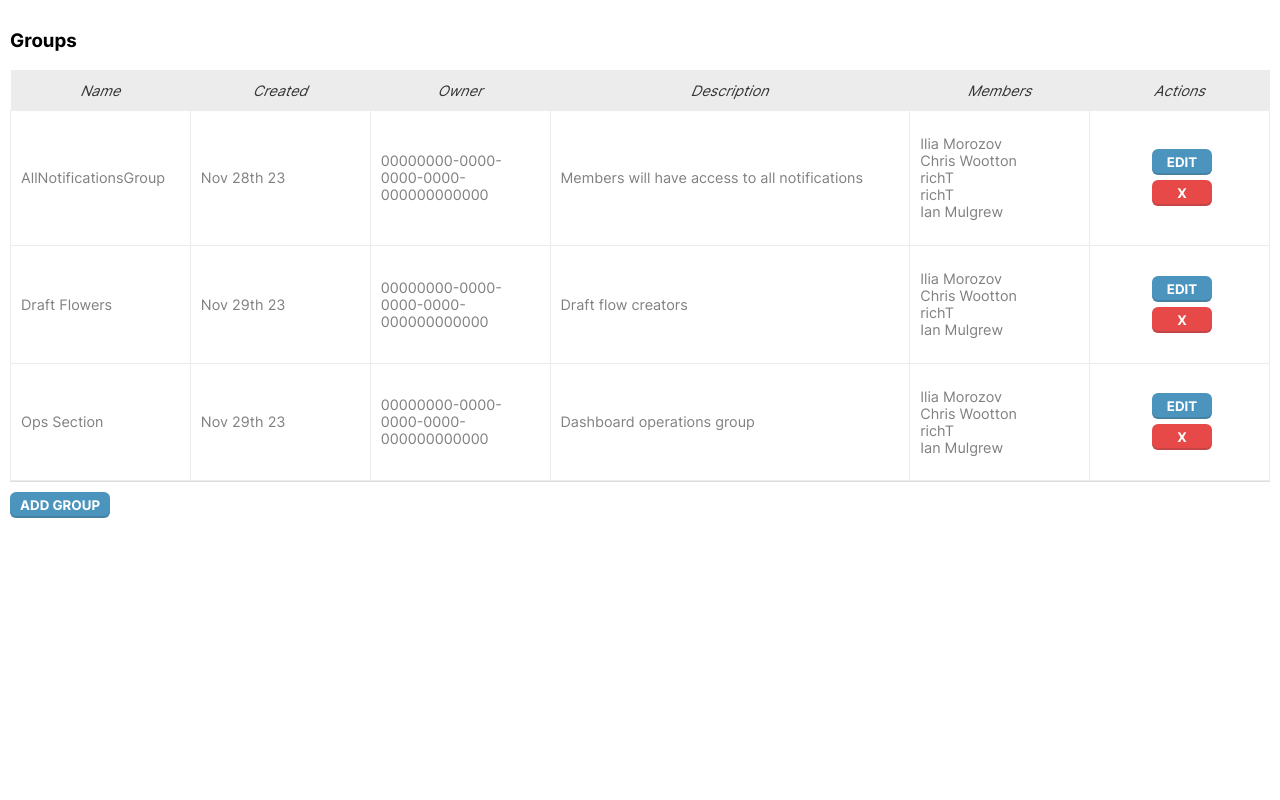
Test case: UserTable component › renders EDIT GROUP modal window on EDIT btn click
Step 1. Click the button with test id "test_AllNotificationsGroup_btn" → (1182, 162), box [1152,149,1212,175]
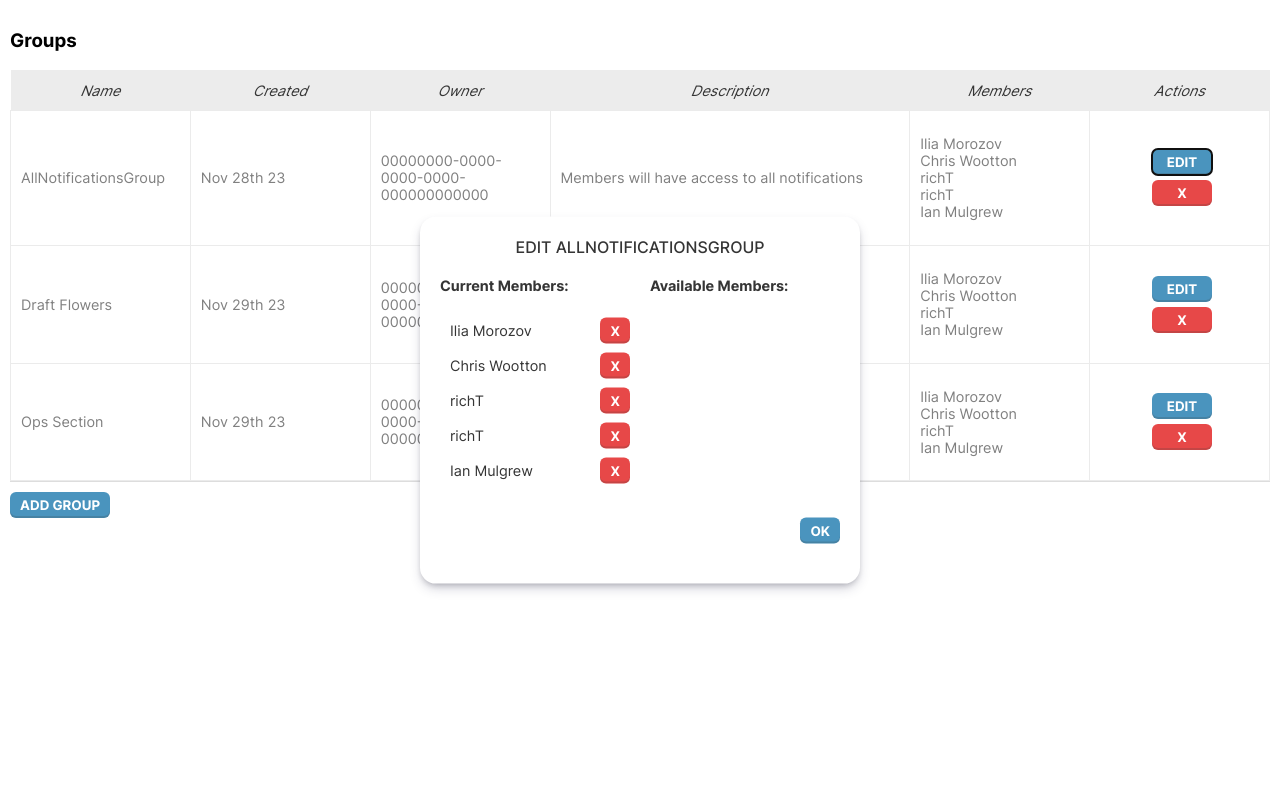
Now the text "EDIT ALLNOTIFICATIONSGROUP" is shown, box [516,237,764,257]
